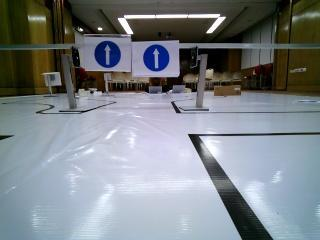straight: (132, 40, 177, 77), (86, 34, 129, 70)
